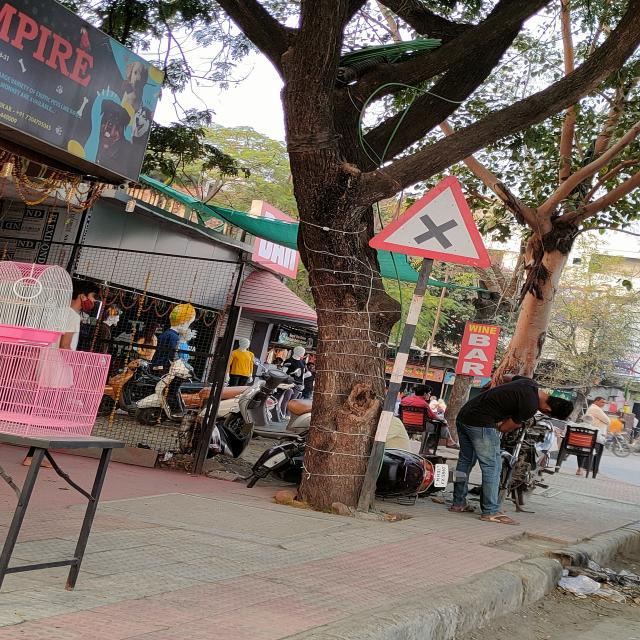CROSS_ROAD: (369, 175, 495, 268)
